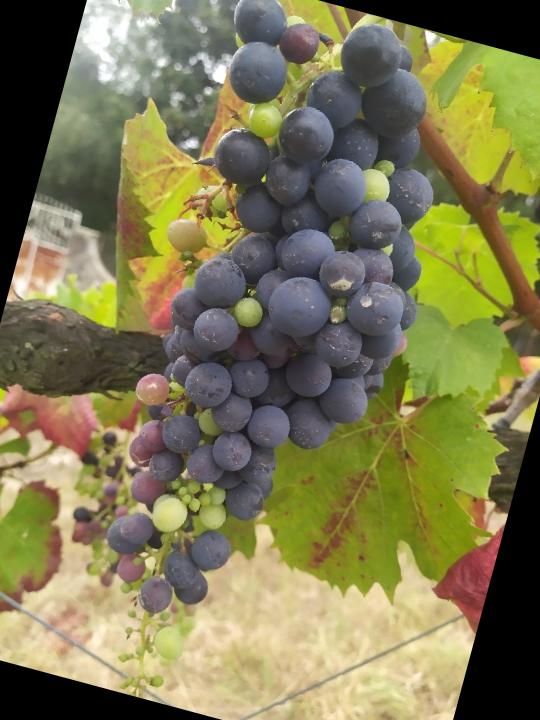grape: (51, 0, 488, 720)
